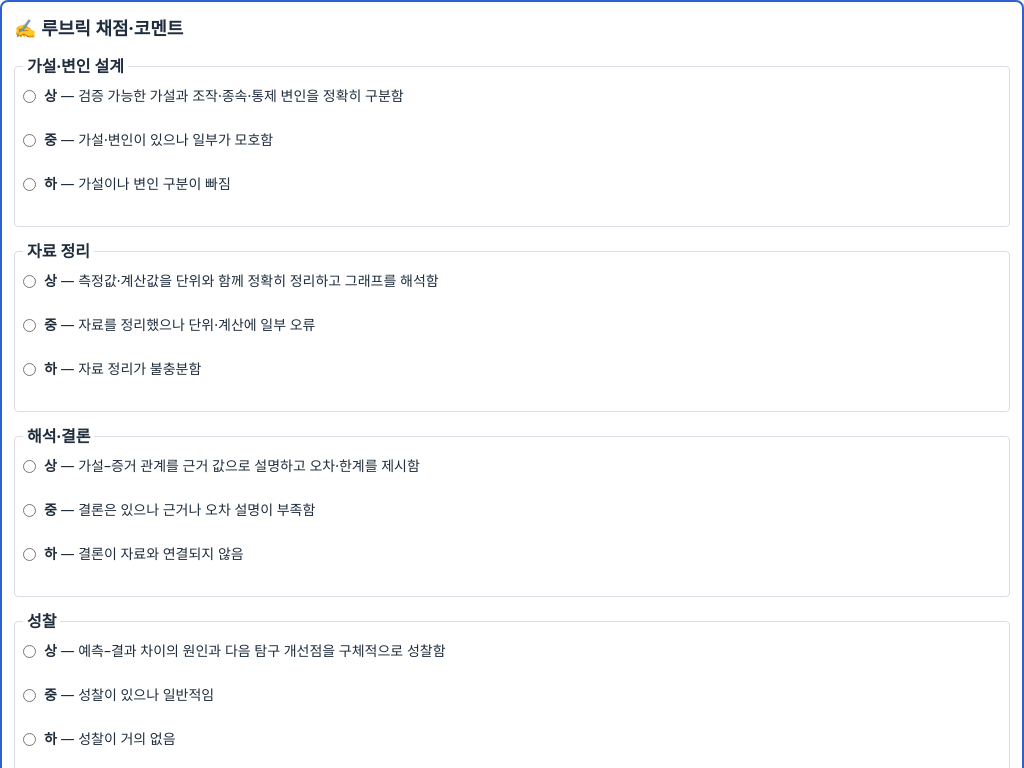
RubricGrader › 4항목을 모두 고르기 전에는 돌려주기가 꺼져 있다
What coordinates should you click on to do the following:
click the radio button labelled "상 — 검증 가능한 가설과 조작·종속·통제 변인을 정확히 구분함"
I would click on:
 (30, 96)
Its box is [23,90,36,103].
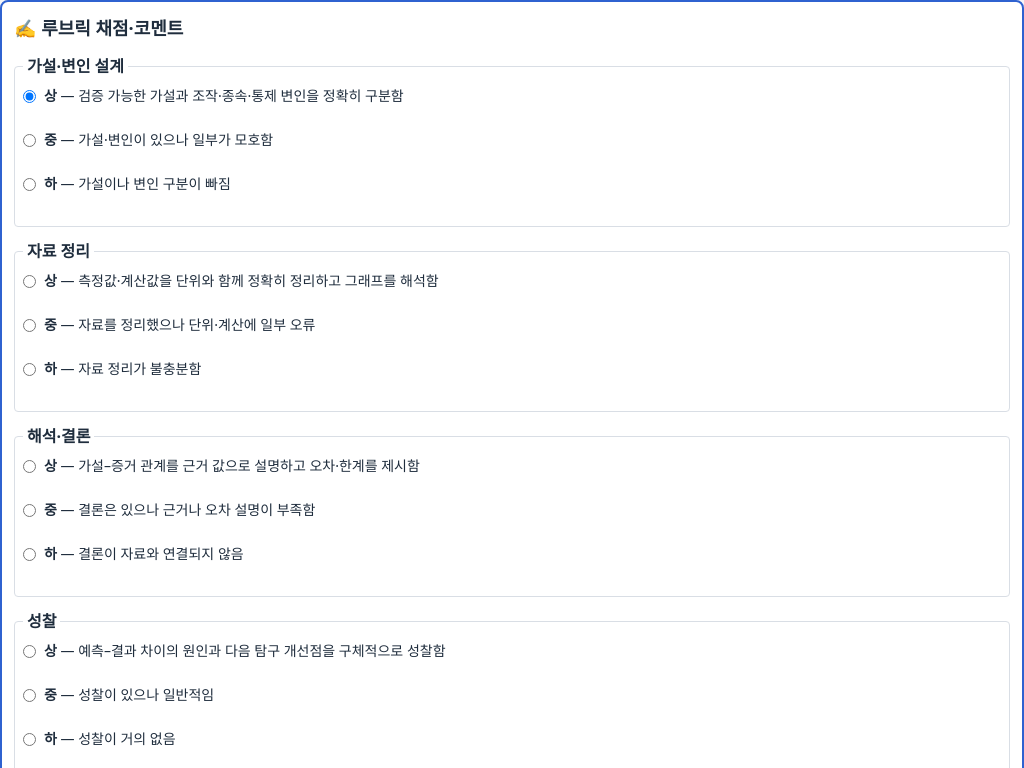
What coordinates should you click on to do the following:
click the radio button labelled "상 — 측정값·계산값을 단위와 함께 정확히 정리하고 그래프를 해석함"
I would click on:
 (30, 282)
Its box is [23,275,36,288].
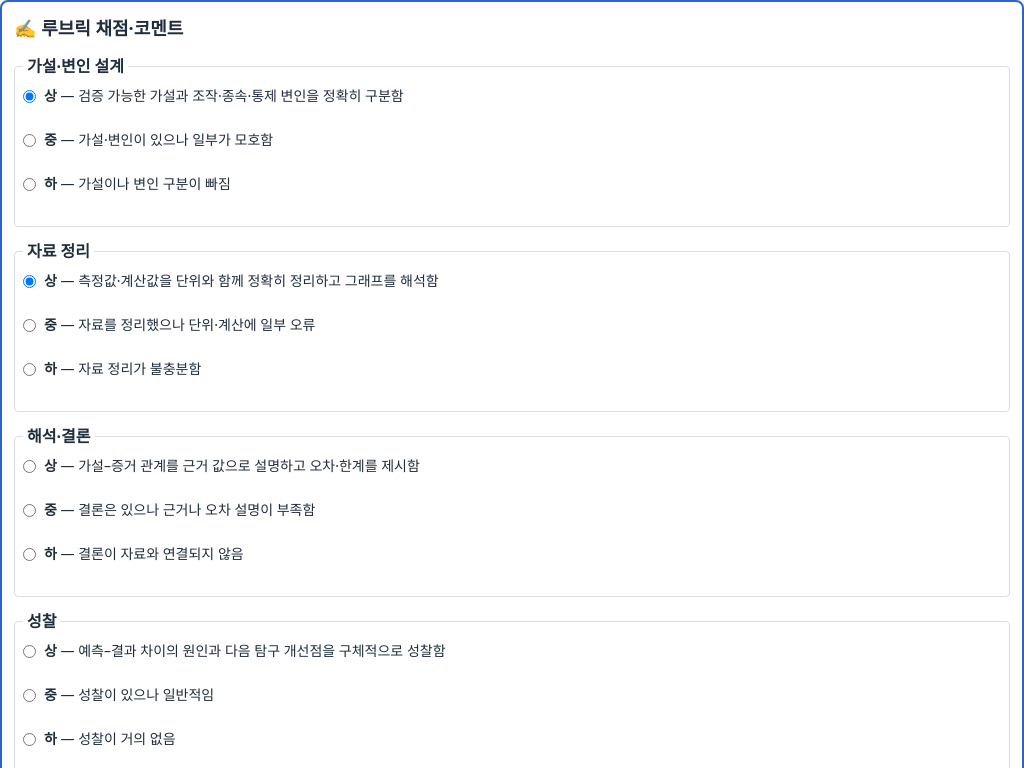
What coordinates should you click on to do the following:
click the radio button labelled "상 — 가설–증거 관계를 근거 값으로 설명하고 오차·한계를 제시함"
I would click on:
 (30, 466)
Its box is [23,460,36,473].
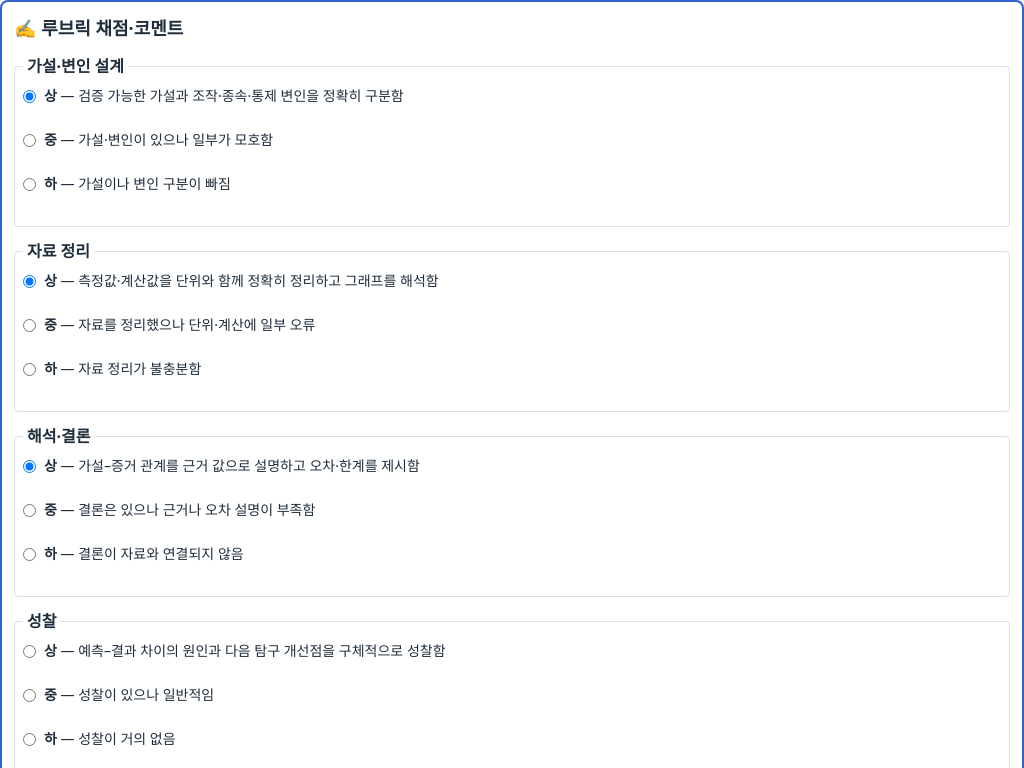
What coordinates should you click on to do the following:
click the radio button labelled "상 — 예측–결과 차이의 원인과 다음 탐구 개선점을 구체적으로 성찰함"
I would click on:
 (30, 652)
Its box is [23,645,36,658].
(page scrolled)
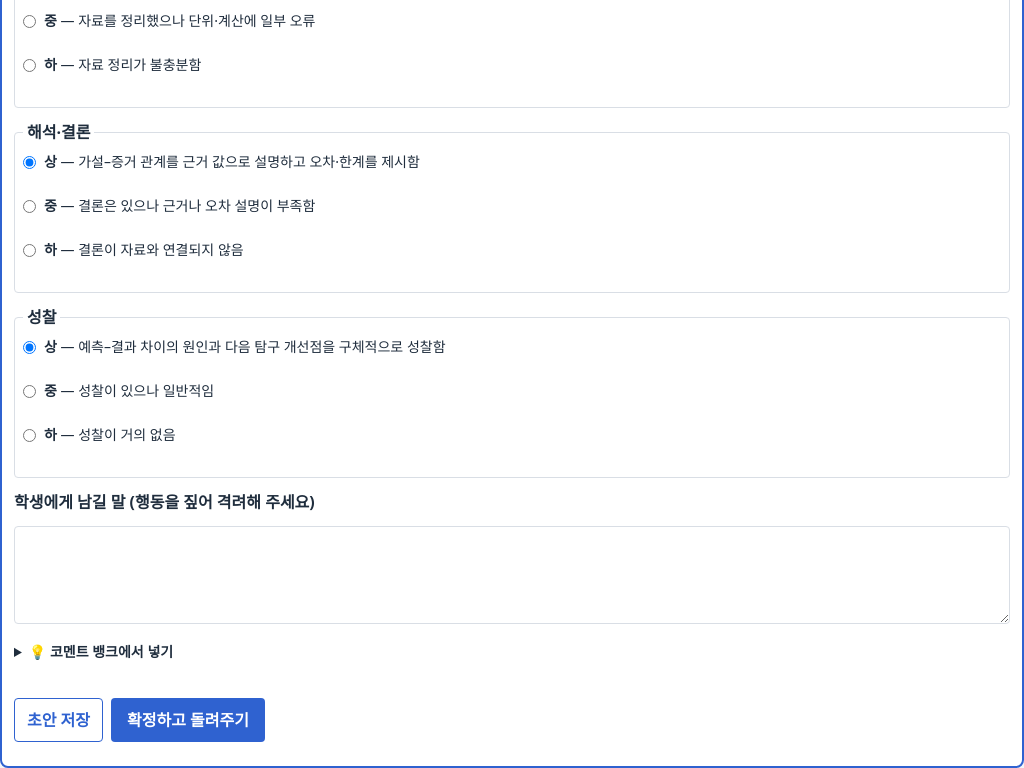
Expected: the button "확정하고 돌려주기" is enabled, [111,698,265,742]
